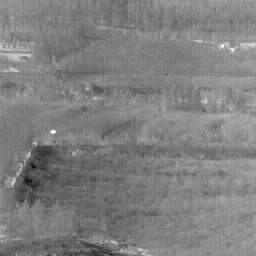Target: (49, 129, 57, 136)
